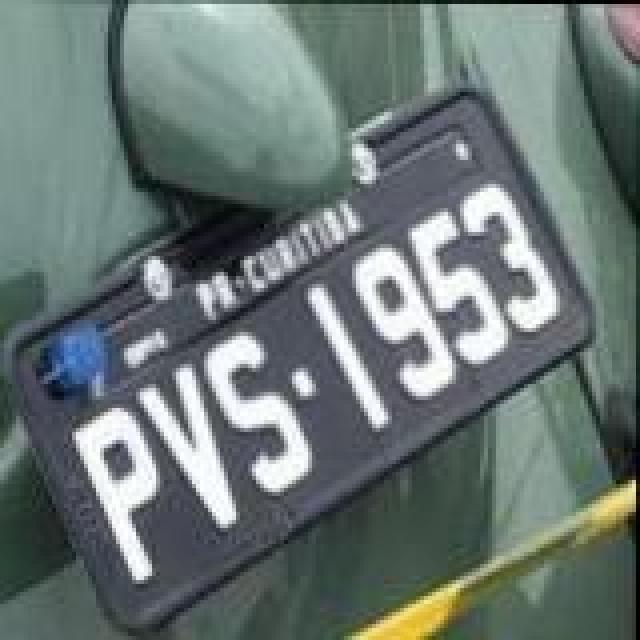1: (304, 280, 396, 436)
3: (458, 180, 562, 336)
5: (404, 206, 512, 374)
9: (350, 244, 462, 400)
P: (72, 404, 164, 588)
S: (204, 328, 320, 500)
V: (136, 364, 244, 536)
